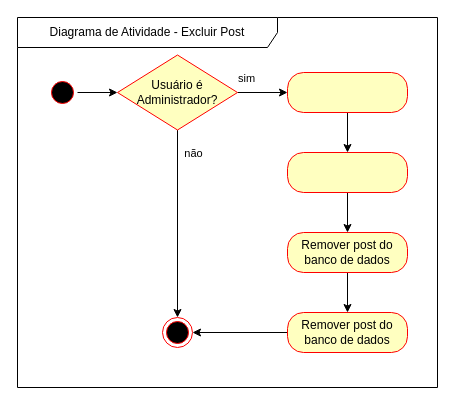
Image size: 455x405. Some labels were removed from this diagram. The shapes that lost their labels are listed below. From the top down, each one's centre as x and y in pixels, then its label:
point (347, 92): Selecionar post para exclusão
point (347, 172): Confirmar ação de exclusão
